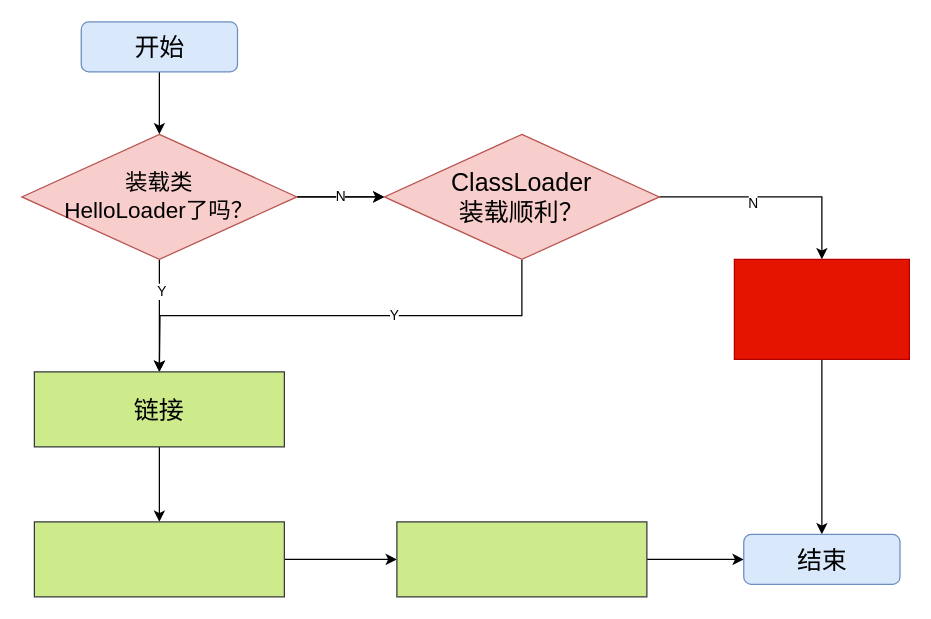
This 931x619 diagram has some shape labels left out. The shapes that lost their labels are listed below. From the top down, each one's centre as x and y in pixels, then its label:
pixel 821 308: 抛出异常
pixel 158 559: 初始化HelloLoader
pixel 521 559: 调用HelloLoader.main()
